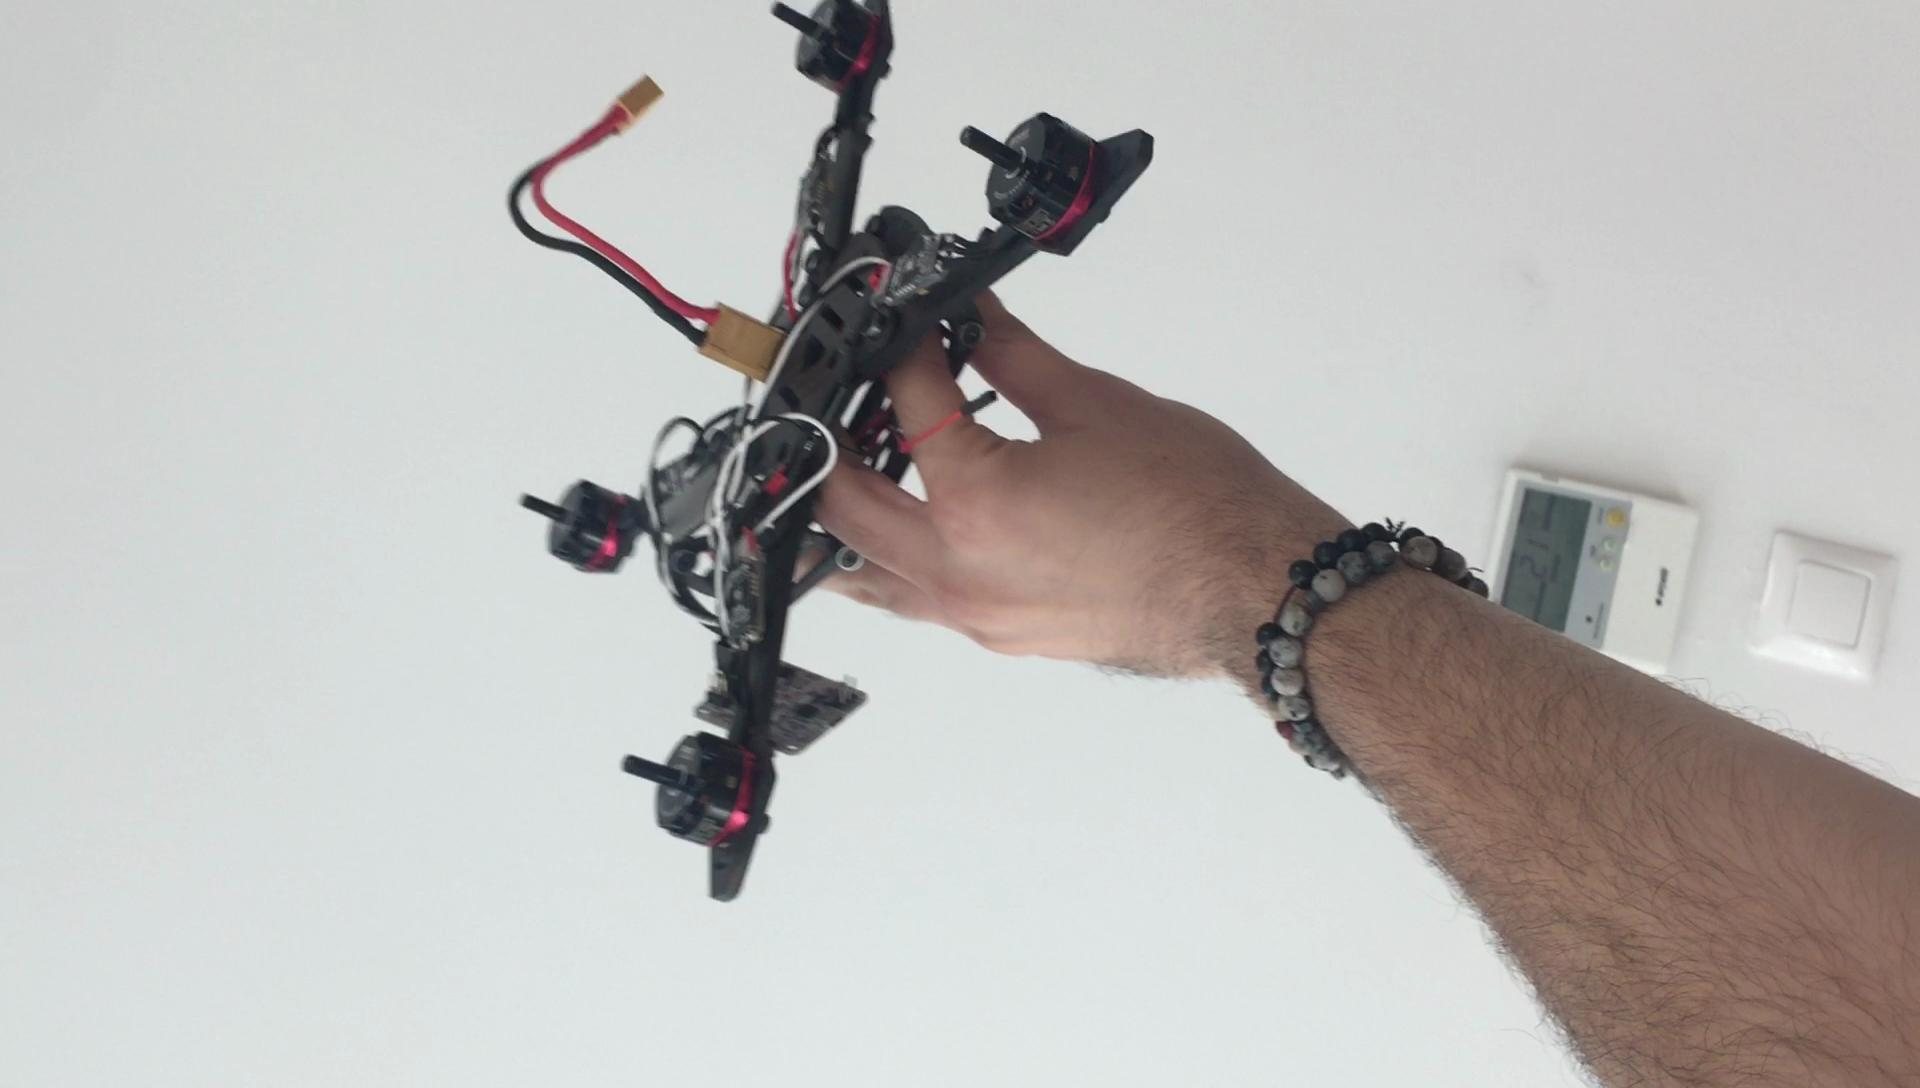drone: (467, 8, 1182, 905)
